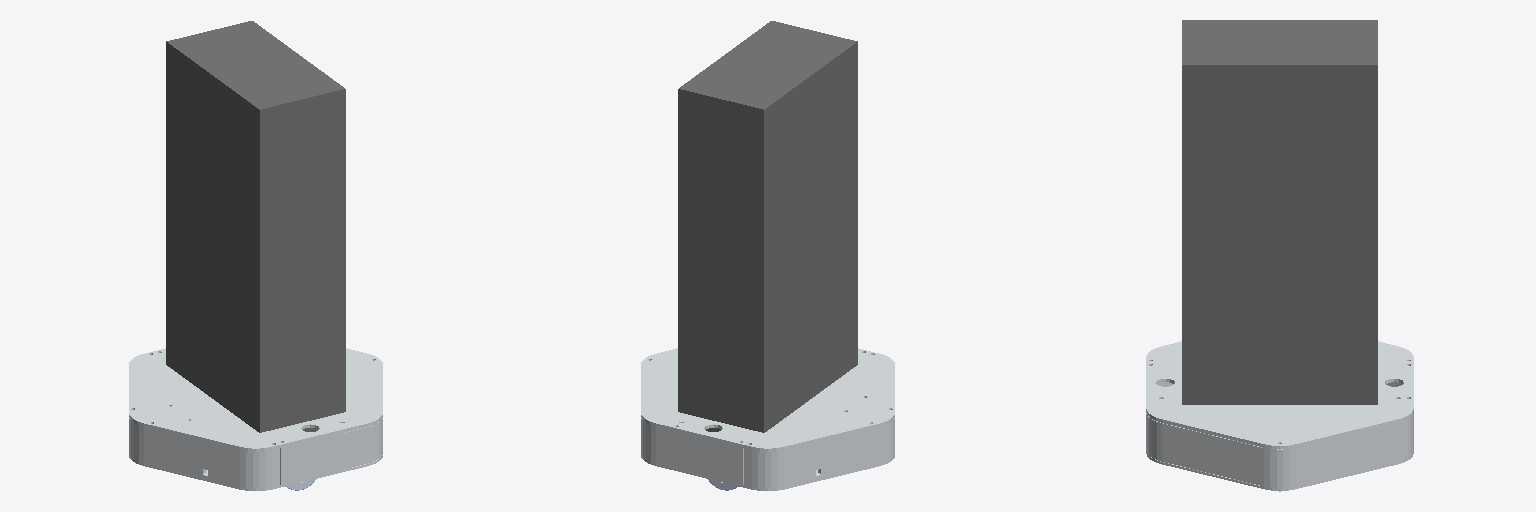
URDF robot description (debra):
<?xml version="1.0" ?>
<!-- =================================================================================== -->
<!-- |    This document was autogenerated by xacro from debra.xacro                    | -->
<!-- |    EDITING THIS FILE BY HAND IS NOT RECOMMENDED                                 | -->
<!-- =================================================================================== -->
<robot name="debra" xmlns:xacro="http://www.ros.org/wiki/xacro">
  <!-- Included URDF/XACRO Files -->
  <material name="Black">
    <color rgba="0.0 0.0 0.0 1.0"/>
  </material>
  <material name="Blue">
    <color rgba="0.0 0.0 0.8 1.0"/>
  </material>
  <material name="Green">
    <color rgba="0.0 0.8 0.0 1.0"/>
  </material>
  <material name="LightLightGrey">
    <color rgba="0.9 0.9 0.9 1.0"/>
  </material>
  <material name="LightGrey">
    <color rgba="0.7 0.7 0.7 1.0"/>
  </material>
  <material name="Grey">
    <color rgba="0.5 0.5 0.5 1.0"/>
  </material>
  <material name="DarkGrey">
    <color rgba="0.3 0.3 0.3 1.0"/>
  </material>
  <material name="DarkDarkGrey">
    <color rgba="0.1 0.1 0.1 1.0"/>
  </material>
  <material name="Orange">
    <color rgba="1.0 0.423529411765 0.0392156862745 1.0"/>
  </material>
  <material name="Brown">
    <color rgba="0.870588235294 0.811764705882 0.764705882353 1.0"/>
  </material>
  <material name="Red">
    <color rgba="0.8 0.0 0.0 1.0"/>
  </material>
  <material name="White">
    <color rgba="1.0 1.0 1.0 1.0"/>
  </material>
  <material name="Yellow">
    <color rgba="0.8 0.8 0.0 1.0"/>
  </material>
  <!-- BASE-FOOTPRINT -->
  <!-- base_footprint is a fictitious link(frame) that is on the ground right below base_link origin -->
  <link name="base_footprint">
    <visual>
      <origin rpy="0 0 0" xyz="0 0 0"/>
      <geometry>
        <box size="0.001 0.001 0.001"/>
      </geometry>
    </visual>
  </link>
  <gazebo reference="base_footprint">
    <turnGravityOff>false</turnGravityOff>
  </gazebo>
  <joint name="base_footprint_joint" type="fixed">
    <origin rpy="0 0 0" xyz="0 0 0.03"/>
    <parent link="base_footprint"/>
    <child link="base_link"/>
    <hardwareInterface>EffortJointInterface</hardwareInterface>
  </joint>
  <!-- BASE-LINK -->
  <!--Actual body/chassis of the robot-->
  <link name="base_link">
    <visual>
      <origin rpy="0 0 1.57079632679" xyz="0 0 0"/>
      <geometry>
        <mesh filename="package://debra_description/meshes/base_link.stl"/>
      </geometry>
      <material name="base_link_color">
        <color rgba="0.898 0.918 0.929 1"/>
      </material>
    </visual>
    <collision>
      <origin rpy="0 0 1.57079632679" xyz="0 0 0"/>
      <geometry>
        <mesh filename="package://debra_description/meshes/base_link.stl"/>
      </geometry>
    </collision>
    <inertial>
      <origin rpy="0 0 1.57079632679" xyz="0 0 0"/>
      <mass value="0.546"/>
      <inertia ixx="0.1" ixy="0.0" ixz="0.0" iyy="0.1" iyz="0.0" izz="0.1"/>
    </inertial>
  </link>
  <gazebo reference="base_link">
    <mu1>0.2</mu1>
    <mu2>0.2</mu2>
    <material>Gazebo/White</material>
    <turnGravityOff>false</turnGravityOff>
  </gazebo>
  <!-- BODY -->
  <link name="body">
    <visual>
      <origin rpy="0.0 0 0" xyz="0 0 0"/>
      <geometry>
        <box size="0.08                      0.15                      0.3"/>
      </geometry>
      <material name="Grey"/>
    </visual>
    <collision>
      <origin rpy="0.0 0 0" xyz="0 0 0"/>
      <geometry>
        <box size="0.25                      0.25                      0.05"/>
      </geometry>
    </collision>
    <inertial>
      <mass value="0.2"/>
      <origin rpy="0 0 0" xyz="0 0 0"/>
      <inertia ixx="0.001875" ixy="0" ixz="0" iyy="0.00160666666667" iyz="0" izz="0.00160666666667"/>
    </inertial>
  </link>
  <gazebo reference="body">
    <mu1 value="0.2"/>
    <mu2 value="0.2"/>
    <material>Gazebo/Grey</material>
    <turnGravityOff>false</turnGravityOff>
  </gazebo>
  <joint name="body_joint" type="fixed">
    <parent link="base_link"/>
    <child link="body"/>
    <hardwareInterface>EffortJointInterface</hardwareInterface>
    <origin rpy="0 0 0" xyz="0.0                    0.0                    0.175"/>
  </joint>
  <!-- WHEELs -->
  <link name="base_link_right_wheel">
    <visual>
      <origin rpy="0 -3.14159265359 1.57079632679" xyz="0 0 0"/>
      <geometry>
        <mesh filename="package://debra_description/meshes/wheel.stl"/>
      </geometry>
      <material name="wheel_color">
        <color rgba="0.867 0.910 1 1"/>
      </material>
    </visual>
    <collision>
      <origin rpy="0 -3.14159265359 1.57079632679" xyz="0 0 0"/>
      <geometry>
        <mesh filename="package://debra_description/meshes/wheel.stl"/>
      </geometry>
    </collision>
    <inertial>
      <origin rpy="0 -3.14159265359 1.57079632679" xyz="0 0 0"/>
      <mass value="0.066"/>
      <inertia ixx="0.1" ixy="0.0" ixz="0.0" iyy="0.1" iyz="0.0" izz="0.1"/>
    </inertial>
  </link>
  <gazebo reference="base_link_right_wheel">
    <mu1 value="1.0"/>
    <mu2 value="1.0"/>
    <kp value="10000000.0"/>
    <kd value="1.0"/>
    <fdir1 value="1 0 0"/>
    <material>Gazebo/Blue</material>
    <turnGravityOff>false</turnGravityOff>
  </gazebo>
  <joint name="base_link_right_wheel_joint" type="continuous">
    <parent link="base_link"/>
    <child link="base_link_right_wheel"/>
    <hardwareInterface>EffortJointInterface</hardwareInterface>
    <origin rpy="0 0 0" xyz="-0.005                    -0.078                    0.0"/>
    <axis rpy="0 0 0" xyz="0 1 0"/>
    <limit effort="100" velocity="100"/>
    <joint_properties damping="0.0" friction="0.0"/>
  </joint>
  <transmission name="base_link_right_wheel_joint_trans">
    <type>transmission_interface/SimpleTransmission</type>
    <joint name="base_link_right_wheel_joint">
      <hardwareInterface>EffortJointInterface</hardwareInterface>
    </joint>
    <actuator name="base_link_right_wheel_joint_motor">
      <hardwareInterface>EffortJointInterface</hardwareInterface>
      <mechanicalReduction>1</mechanicalReduction>
    </actuator>
  </transmission>
  <link name="base_link_left_wheel">
    <visual>
      <origin rpy="0 0.0 1.57079632679" xyz="0 0 0"/>
      <geometry>
        <mesh filename="package://debra_description/meshes/wheel.stl"/>
      </geometry>
      <material name="wheel_color">
        <color rgba="0.867 0.910 1 1"/>
      </material>
    </visual>
    <collision>
      <origin rpy="0 0.0 1.57079632679" xyz="0 0 0"/>
      <geometry>
        <mesh filename="package://debra_description/meshes/wheel.stl"/>
      </geometry>
    </collision>
    <inertial>
      <origin rpy="0 0.0 1.57079632679" xyz="0 0 0"/>
      <mass value="0.066"/>
      <inertia ixx="0.1" ixy="0.0" ixz="0.0" iyy="0.1" iyz="0.0" izz="0.1"/>
    </inertial>
  </link>
  <gazebo reference="base_link_left_wheel">
    <mu1 value="1.0"/>
    <mu2 value="1.0"/>
    <kp value="10000000.0"/>
    <kd value="1.0"/>
    <fdir1 value="1 0 0"/>
    <material>Gazebo/Blue</material>
    <turnGravityOff>false</turnGravityOff>
  </gazebo>
  <joint name="base_link_left_wheel_joint" type="continuous">
    <parent link="base_link"/>
    <child link="base_link_left_wheel"/>
    <hardwareInterface>EffortJointInterface</hardwareInterface>
    <origin rpy="0 0 0" xyz="-0.005                    0.078                    0.0"/>
    <axis rpy="0 0 0" xyz="0 1 0"/>
    <limit effort="100" velocity="100"/>
    <joint_properties damping="0.0" friction="0.0"/>
  </joint>
  <transmission name="base_link_left_wheel_joint_trans">
    <type>transmission_interface/SimpleTransmission</type>
    <joint name="base_link_left_wheel_joint">
      <hardwareInterface>EffortJointInterface</hardwareInterface>
    </joint>
    <actuator name="base_link_left_wheel_joint_motor">
      <hardwareInterface>EffortJointInterface</hardwareInterface>
      <mechanicalReduction>1</mechanicalReduction>
    </actuator>
  </transmission>
  <!-- Hokuyo Laser -->
  <link name="hokuyo_link">
    <collision>
      <origin rpy="0 0 0" xyz="0 0 0"/>
      <geometry>
        <box size="0.1 0.1 0.1"/>
      </geometry>
    </collision>
    <visual>
      <origin rpy="0 0 0" xyz="0 0 0"/>
      <geometry>
        <mesh filename="package://debra_description/meshes/hokuyo.dae"/>
      </geometry>
    </visual>
    <inertial>
      <mass value="1e-5"/>
      <origin rpy="0 0 0" xyz="0 0 0"/>
      <inertia ixx="1e-6" ixy="0" ixz="0" iyy="1e-6" iyz="0" izz="1e-6"/>
    </inertial>
  </link>
  <joint name="hokuyo_joint" type="fixed">
    <parent link="body"/>
    <child link="hokuyo_link"/>
    <hardwareInterface>EffortJointInterface</hardwareInterface>
    <origin rpy="0 0 0" xyz="0.0                    0.0                    0.19"/>
  </joint>
  <gazebo reference="hokuyo_link">
    <sensor name="head_hokuyo_sensor" type="gpu_ray">
      <pose>0 0 0 0 0 0</pose>
      <visualize>false</visualize>
      <update_rate>50</update_rate>
      <ray>
        <scan>
          <horizontal>
            <samples>720</samples>
            <resolution>1</resolution>
            <min_angle>-1.570796</min_angle>
            <max_angle>1.570796</max_angle>
          </horizontal>
        </scan>
        <range>
          <min>0.10</min>
          <max>30.0</max>
          <resolution>0.01</resolution>
        </range>
        <noise>
          <type>gaussian</type>
          <!-- Noise parameters based on published spec for Hokuyo laser
                 achieving "+-30mm" accuracy at range < 10m.  A mean of 0.0m and
                 stddev of 0.01m will put 99.7% of samples within 0.03m of the
                 true reading. -->
          <mean>0.0</mean>
          <stddev>0.01</stddev>
        </noise>
      </ray>
      <plugin filename="libgazebo_ros_gpu_laser.so" name="gazebo_ros_head_hokuyo_controller">
        <topicName>/debra/laser/scan</topicName>
        <frameName>hokuyo_link</frameName>
      </plugin>
    </sensor>
  </gazebo>
  <!-- Base controller -->
  <gazebo>
    <plugin filename="libgazebo_ros_diff_drive.so" name="differential_drive_controller">
      <alwaysOn>true</alwaysOn>
      <updateRate>10</updateRate>
      <leftJoint>base_link_right_wheel_joint</leftJoint>
      <rightJoint>base_link_left_wheel_joint</rightJoint>
      <wheelSeparation>0.156</wheelSeparation>
      <wheelDiameter>0.06</wheelDiameter>
      <torque>20</torque>
      <commandTopic>cmd_vel</commandTopic>
      <odometryTopic>odom</odometryTopic>
      <odometryFrame>odom</odometryFrame>
      <robotBaseFrame>base_footprint</robotBaseFrame>
    </plugin>
    <plugin filename="libgazebo_ros_control.so" name="gazebo_ros_control"/>
  </gazebo>
  <!-- Arm controller -->
  <gazebo>
    <plugin filename="libgazebo_ros_control.so" name="gazebo_ros_control">
      <robotNamespace>/debra</robotNamespace>
    </plugin>
  </gazebo>
</robot>

--- What the picture shows (computed from the rendered views, not written in the file) ---
Views: 3 orthographic renders of the robot side by side, from view 1: azimuth 30°, elevation 25°; view 2: azimuth 150°, elevation 25°; view 3: azimuth 270°, elevation 25°.
Robot: debra — 6 links, 5 joints (2 continuous, 3 fixed); root link base_footprint; default pose: every joint at zero.
Visible links, largest first — view 1: body, base_link; view 2: body, base_link; view 3: body, base_link.
Boxes of the visible links, x1,y1,x2,y2 form: body: (166, 21, 345, 432); base_link: (129, 348, 382, 490); body: (678, 21, 857, 432); base_link: (641, 348, 894, 490); body: (1182, 20, 1377, 404); base_link: (1146, 341, 1413, 491).
Bounding box of the posed robot: 0.229 × 0.205 × 0.3555 m (x, y, z).
Meshes: 3 distinct files referenced, 3 mesh visuals loaded (2 binary STL); not drawn: 1 (reference not matched to a file when rendering).
